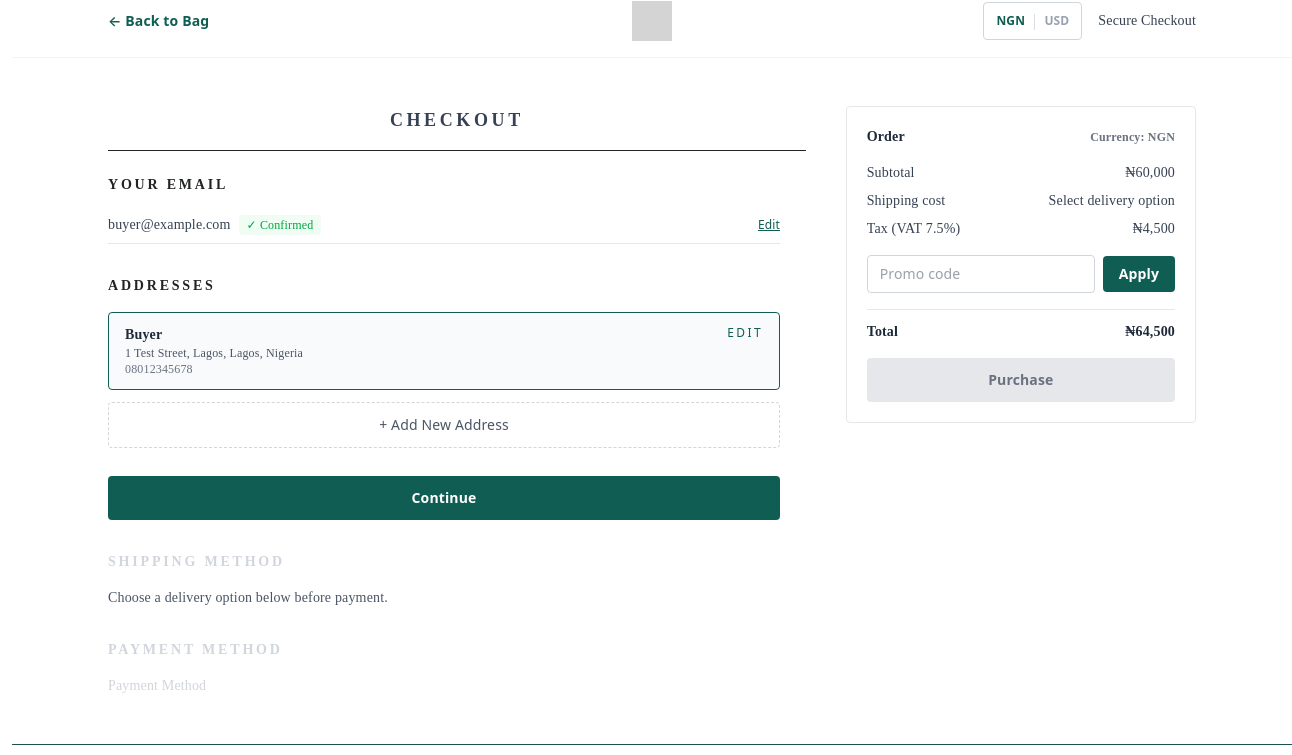
Test case: Checkout M5 sequencing and recovery › uses saved manual estimates without legacy quote or review before payment
Click the button "Continue".
click(444, 498)  # box [108,476,780,520]
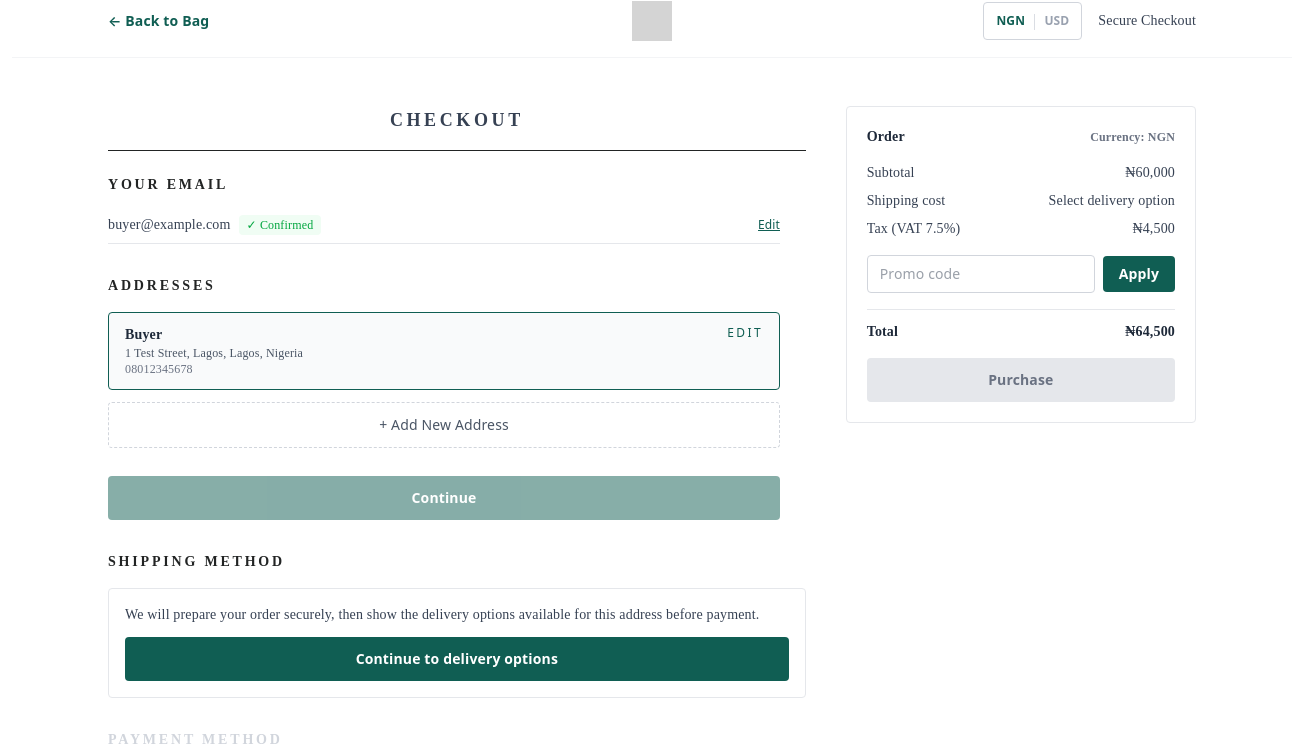
Expected: the radio button labelled "Stripe" is not shown
Now the text "show the delivery options available for this address before payment" is shown, box [125,607,760,622]
Click the button "Continue to delivery options".
click(457, 659)  # box [125,637,789,681]
(page scrolled)
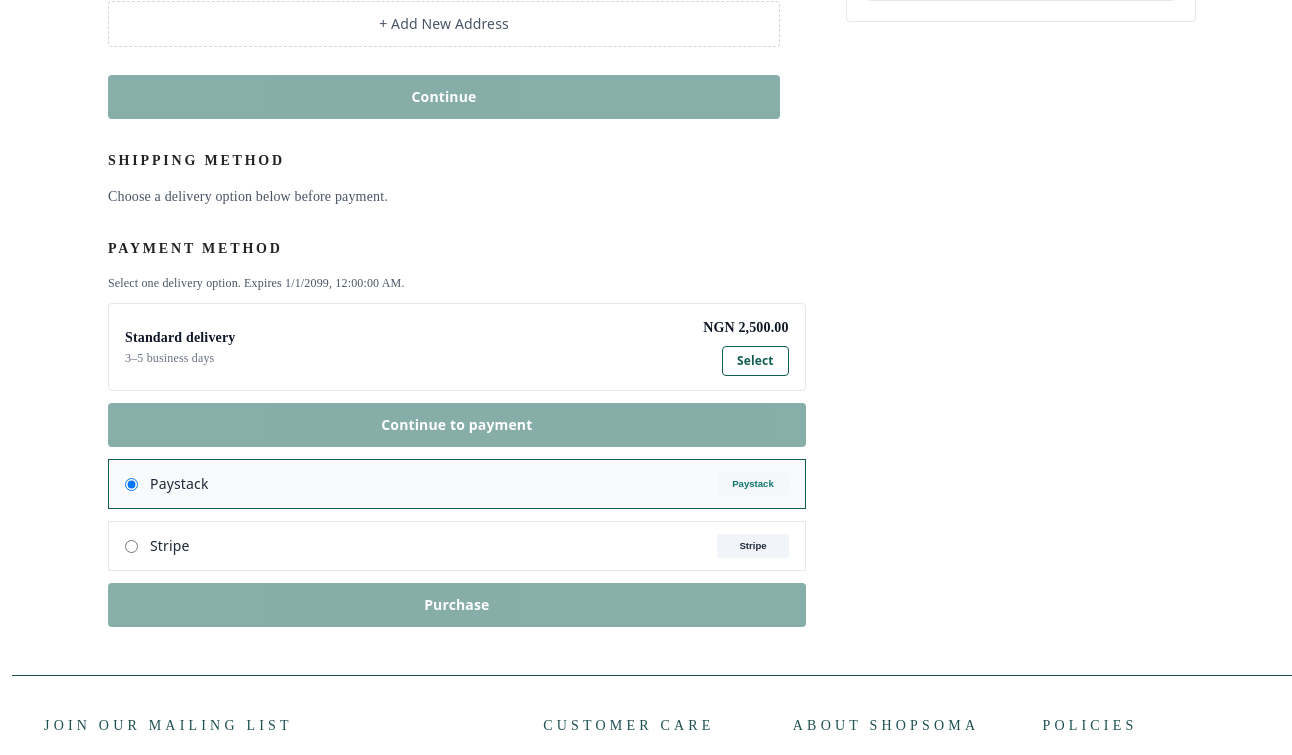
Now the button with aria-label "Select Standard delivery" is shown
Now the button "Continue to payment" is disabled, box [108,403,806,447]
Click the button with aria-label "Select Standard delivery".
click(755, 361)  # box [722,346,789,376]
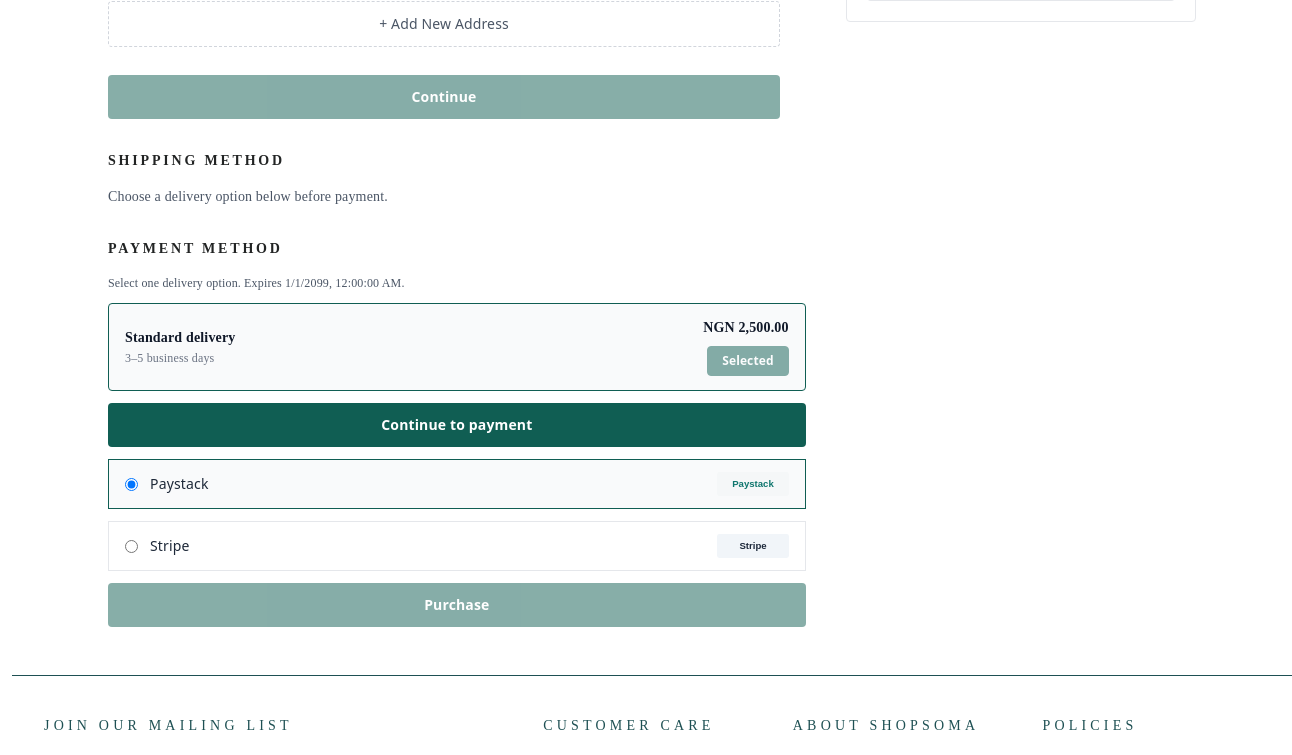
Now the text "NGN 2,500.00" is shown, box [703,318,789,338]
Now the button "Continue to payment" is enabled, box [108,403,806,447]
